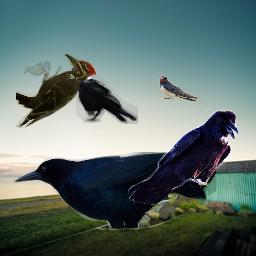Crow: (13, 152, 216, 228), (128, 110, 238, 205), (71, 64, 138, 124)
Swallow: (159, 75, 209, 105)
Woodpecker: (16, 54, 97, 129)
